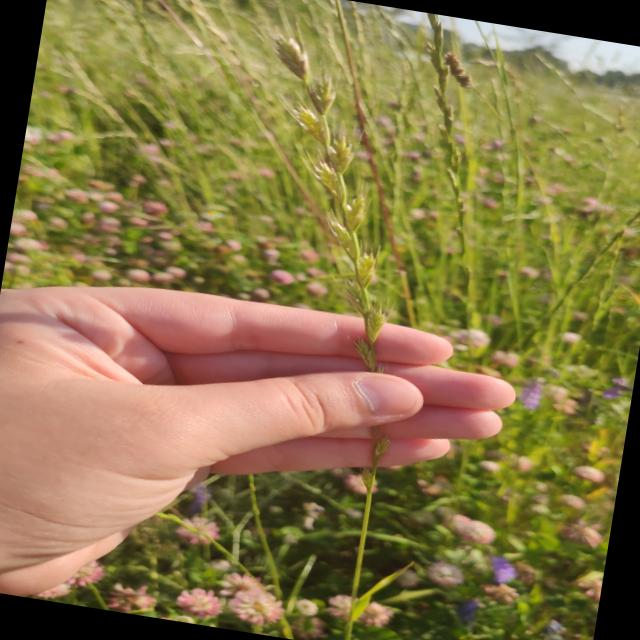Lolium: (236, 34, 432, 372), (376, 12, 528, 340)
